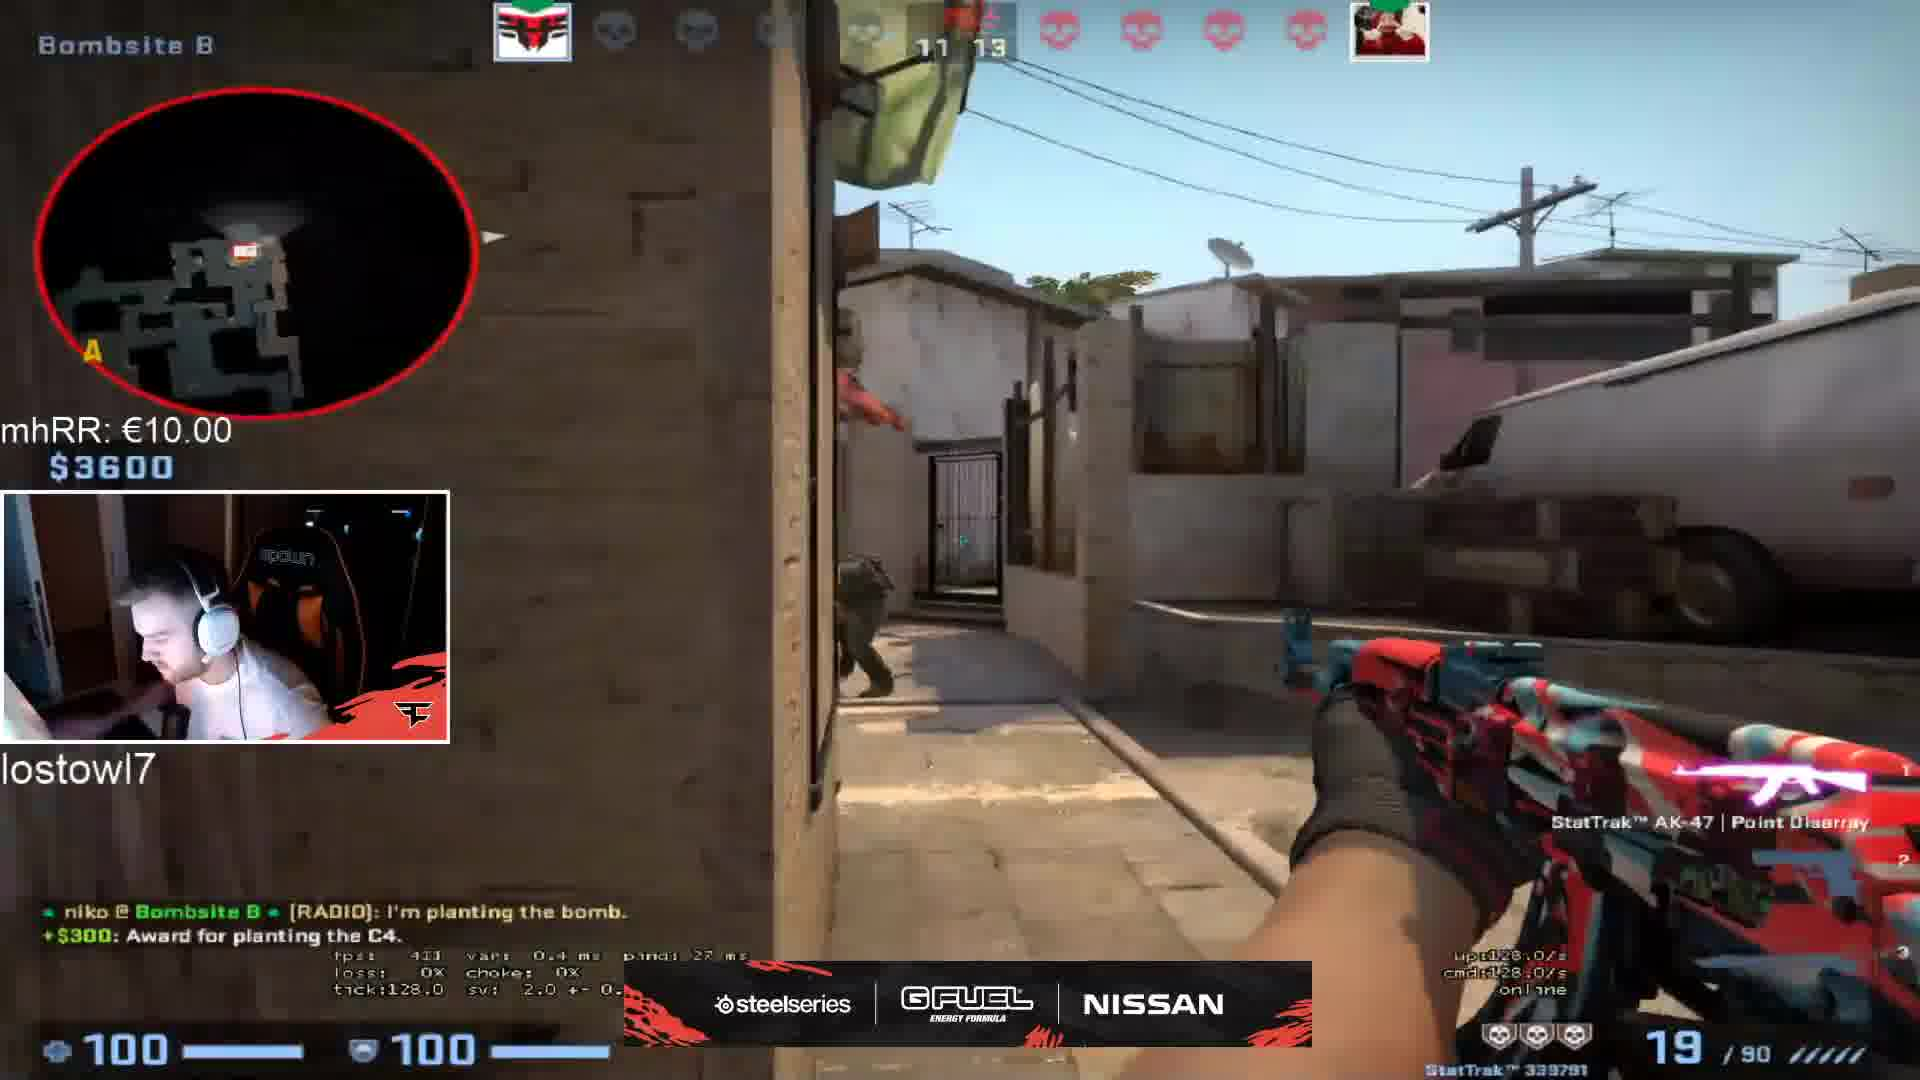enemy: (831, 542, 910, 705)
